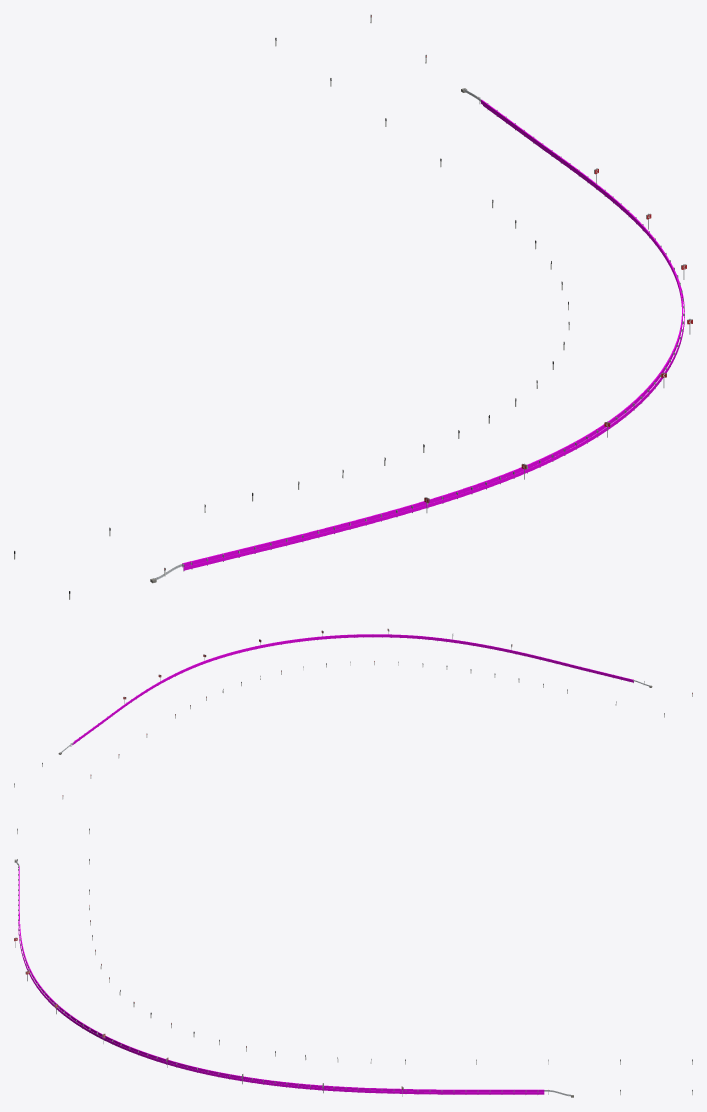
File: EN_Road_Country2_Curve90_R50_Furniture.fbx
3 renders of one model, top to bottom at view 1: azimuth 30°, elevation 25°; view 2: azimuth 150°, elevation 25°; view 3: azimuth 270°, elevation 25°, orthographic. The views are drawn at different scales.
Visible parts, largest first — view 1: COL_Barrier; view 2: COL_Barrier; view 3: COL_Barrier.
Part boxes in pixels (x1,y1,x2,y2): COL_Barrier: (182,99,684,570); COL_Barrier: (72,634,633,745); COL_Barrier: (18,866,544,1094).
Bounding box in the file's own units: 104 × 2.5 × 113.
